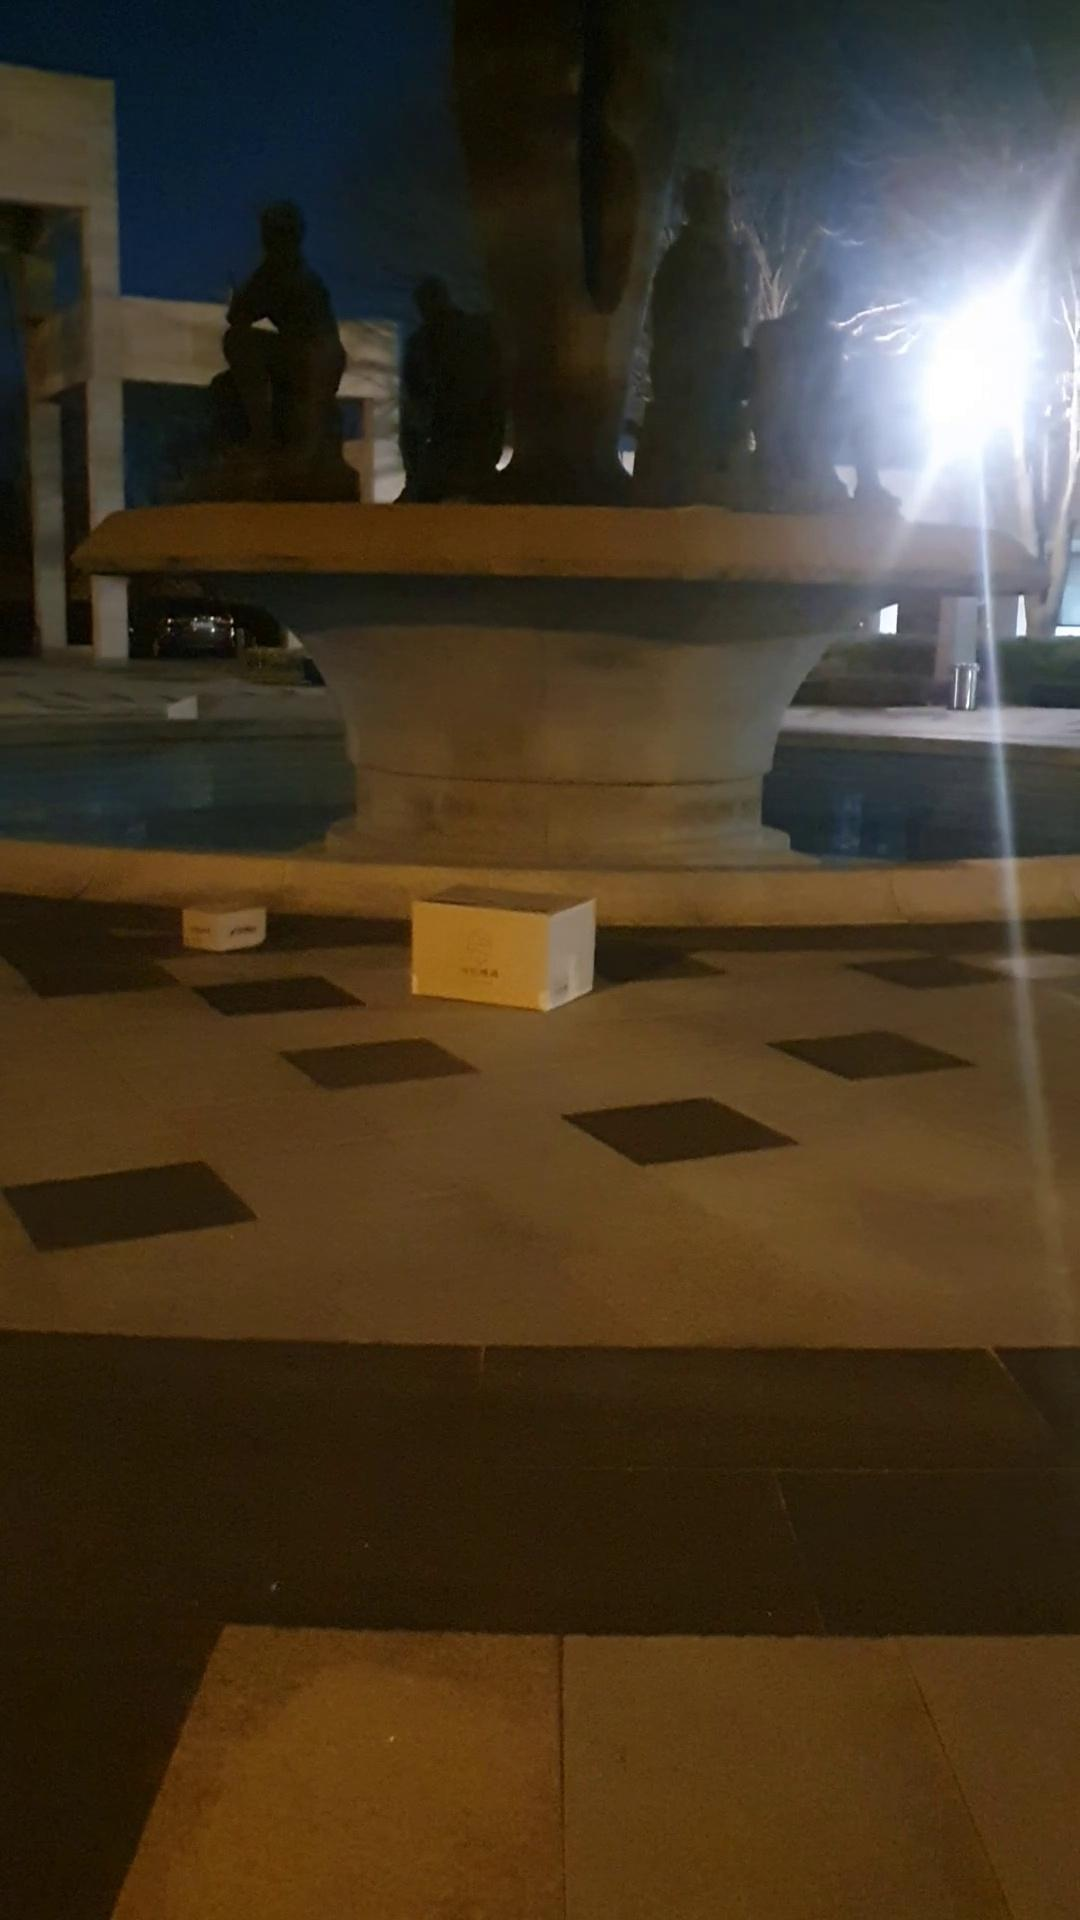Box: (393, 868, 605, 1029), (167, 890, 280, 965)
